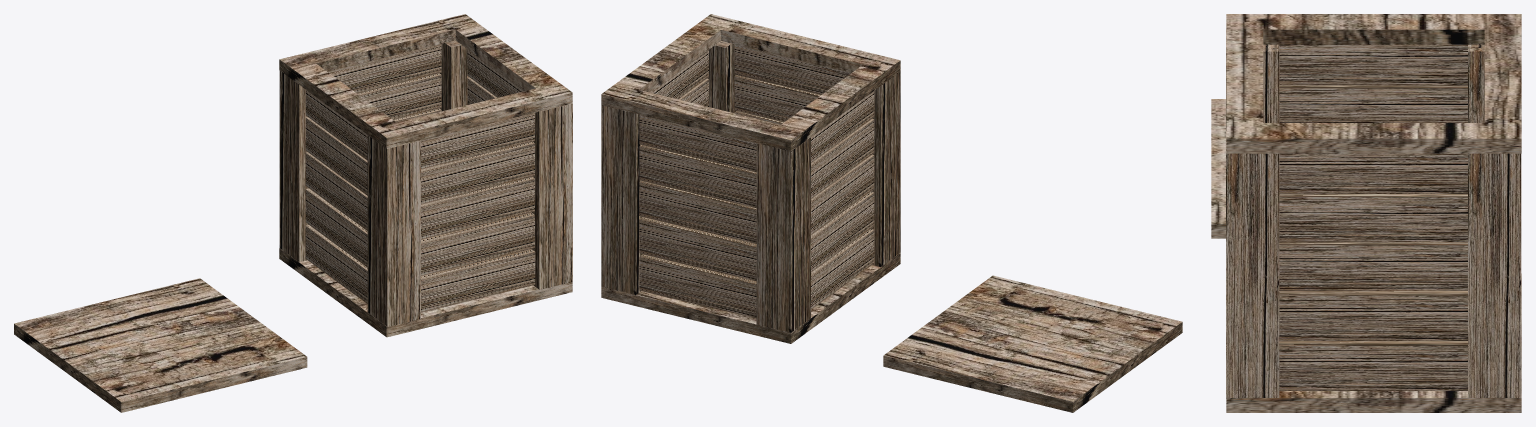
The model's file is crate (2).fbx.
The picture shows the model from 3 angles, left to right: view 1: azimuth 30°, elevation 25°; view 2: azimuth 150°, elevation 25°; view 3: azimuth 270°, elevation 25°; orthographic projection. The views are drawn at different scales.
Parts seen in each view (by area): view 1: Cube.026, Cube.005, Cube.001, Cube.003, Cube.002, Cube, Cube.025, Cube.024, Cube.022, Cube.023, Cube.021, Cube.016 (+8 smaller); view 2: Cube.026, Cube.005, Cube.002, Cube.004, Cube.001, Cube, Cube.019, Cube.020, Cube.017, Cube.018, Cube.016, Cube.021 (+8 smaller); view 3: Cube.005, Cube.003, Cube.004, Cube.009, Cube.010, Cube.007, Cube.008, Cube.011, Cube.006, Cube.012, Cube, Cube.026 (+2 smaller).
Boxes of the visible parts, x1,y1,x2,y2 form: Cube.026: [14, 278, 307, 412]; Cube.005: [279, 14, 572, 148]; Cube.001: [367, 135, 420, 326]; Cube.003: [532, 103, 572, 289]; Cube.002: [279, 70, 308, 262]; Cube: [279, 248, 572, 337]; Cube.025: [421, 249, 535, 312]; Cube.024: [421, 212, 534, 276]; Cube.022: [421, 141, 534, 204]; Cube.023: [421, 177, 534, 239]; Cube.021: [421, 112, 534, 169]; Cube.016: [328, 44, 441, 93]; Cube.026: [883, 275, 1182, 412]; Cube.005: [601, 14, 900, 151]; Cube.002: [756, 137, 810, 332]; Cube.004: [601, 105, 642, 294]; Cube.001: [871, 71, 900, 266]; Cube: [601, 253, 900, 343]; Cube.019: [639, 217, 756, 281]; Cube.020: [639, 254, 756, 318]; Cube.017: [639, 145, 756, 207]; Cube.018: [639, 180, 756, 243]; Cube.016: [639, 114, 756, 172]; Cube.021: [734, 44, 851, 94]; Cube.005: [1226, 14, 1521, 153]; Cube.003: [1226, 131, 1279, 398]; Cube.004: [1468, 153, 1521, 397]; Cube.009: [1279, 290, 1467, 340]; Cube.010: [1279, 341, 1467, 390]; Cube.007: [1279, 194, 1467, 242]; Cube.008: [1279, 242, 1467, 290]; Cube.011: [1279, 44, 1467, 85]; Cube.006: [1279, 153, 1467, 193]; Cube.012: [1279, 85, 1467, 122]; Cube: [1226, 273, 1521, 412]; Cube.026: [1211, 99, 1225, 238].
Bounding box in the file's own units: 491 × 211 × 210.
